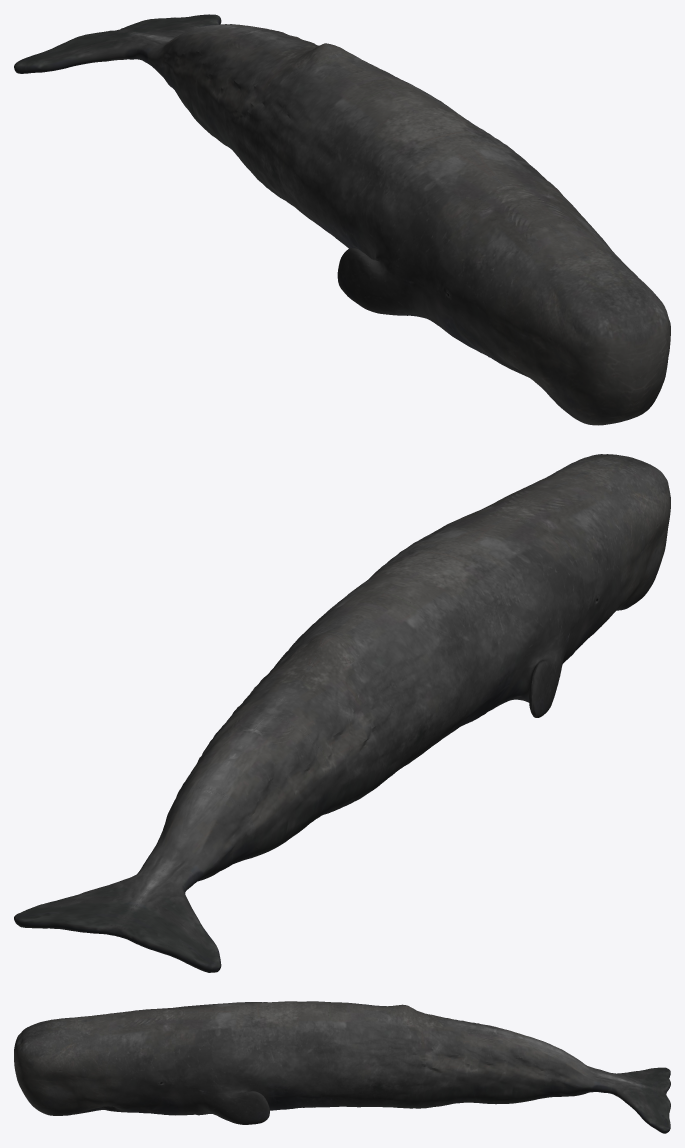
Rendered from earth3d2-sperm-whale.glb.
3 views of the same model, one above another, from view 1: azimuth 30°, elevation 25°; view 2: azimuth 150°, elevation 25°; view 3: azimuth 270°, elevation 25° (orthographic). The views are drawn at different scales.
Visible parts, largest first — view 1: Object_31; view 2: Object_31; view 3: Object_31.
Part boxes in pixels (x1,y1,x2,y2): Object_31: (14,14,670,425); Object_31: (14,454,670,972); Object_31: (14,1001,670,1133).
Size of the model in its own units: 2.25 by 1.83 by 10.06.
1 material, 1 textured.
